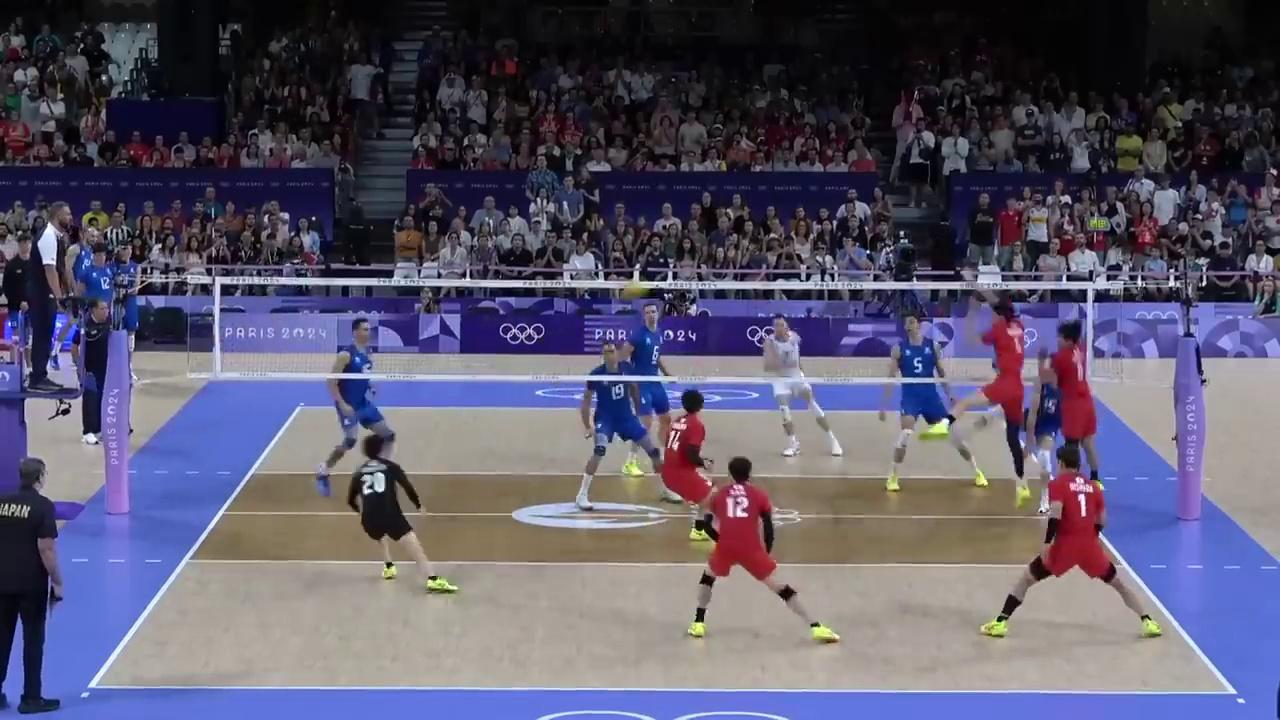ball: (619, 279, 649, 299)
